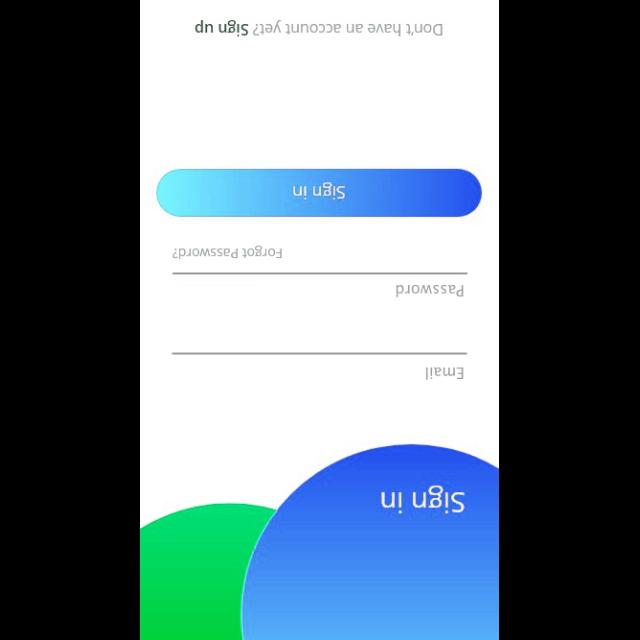input: (172, 352, 468, 380), (172, 272, 468, 296)
text: (195, 19, 443, 37), (380, 483, 466, 512), (172, 245, 282, 259), (396, 284, 464, 298), (426, 366, 464, 379)
textbutton: (155, 168, 482, 216)
